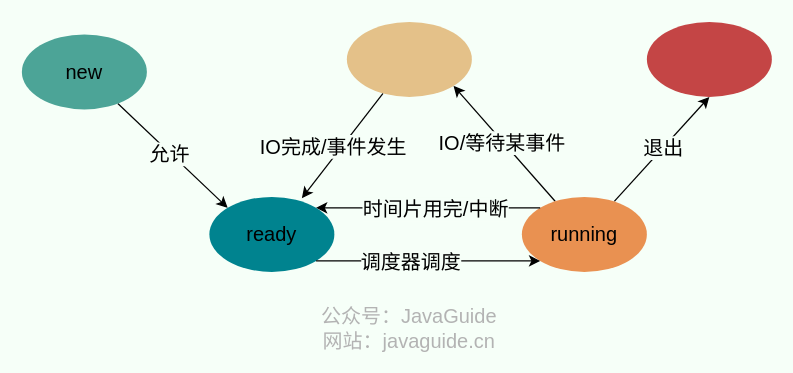
The diagram is 793 pixels wide and 373 high, and some of its shapes have lost their labels. Each missing label, with the centre of its shape:
teminated: the point at 708,58
waiting: the point at 408,58
